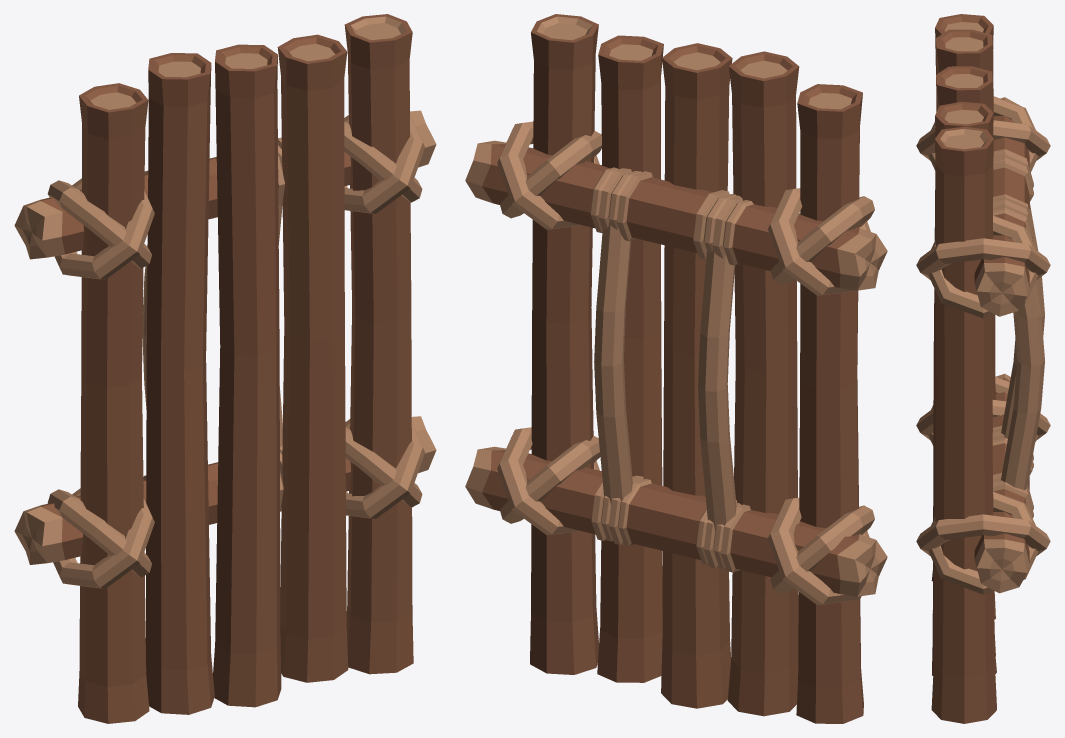
File: Wooden Shield.fbx
3 renders of one model, left to right at view 1: azimuth 30°, elevation 25°; view 2: azimuth 150°, elevation 25°; view 3: azimuth 270°, elevation 25°, orthographic. The views are drawn at different scales.
Parts seen in each view (by area): view 1: Wooden Shield; view 2: Wooden Shield; view 3: Wooden Shield.
Part boxes in pixels (x1,y1,x2,y2): Wooden Shield: (14, 14, 436, 723); Wooden Shield: (465, 14, 887, 723); Wooden Shield: (916, 14, 1050, 723).
Bounding box in the file's own units: 70.97 × 111 × 23.17.
